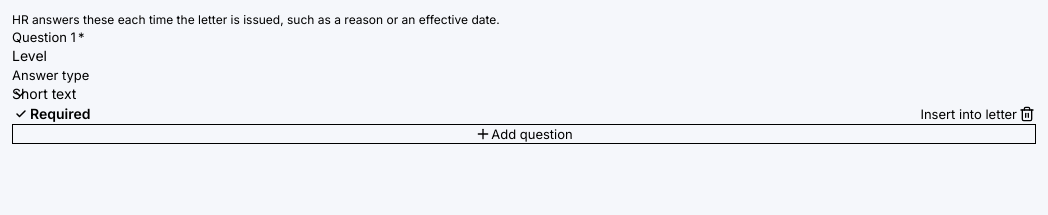
Test: asks for choices when the answer is a dropdown
Expected: the field labelled "Choices" is not shown
Select "Dropdown with choices" in the dropdown labelled "Answer type" at (524, 94), box [12,84,1036,104]
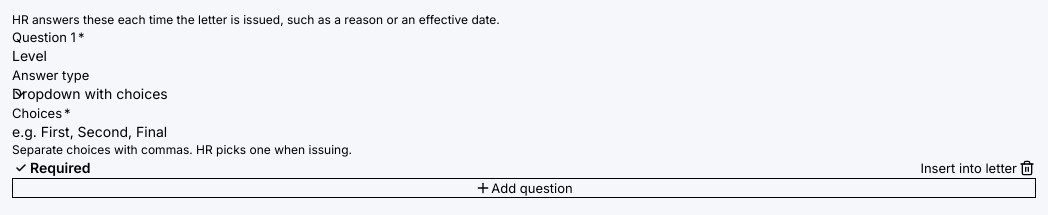
Type "First, Final" into the field labelled "Choices *" at (524, 132), box [12,122,1036,142]
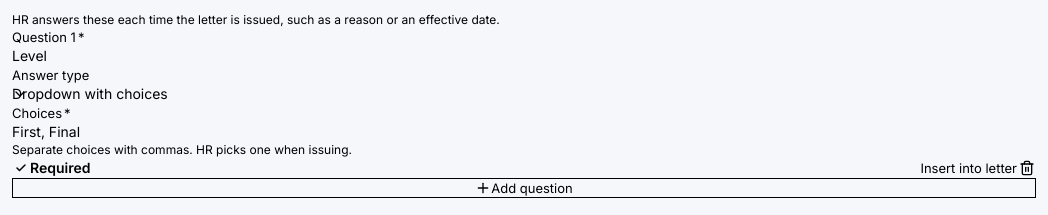
Select "Paragraph" in the dropdown labelled "Answer type" at (524, 94), box [12,84,1036,104]
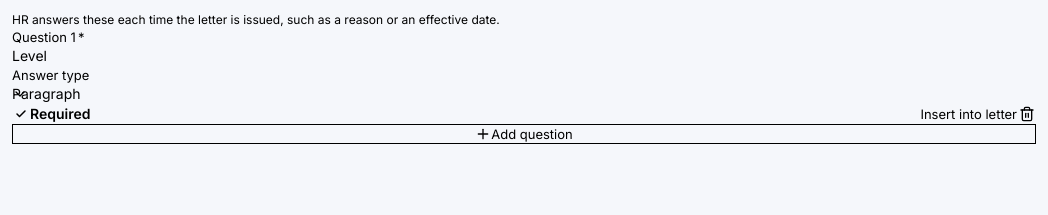
Result: the label labelled "Choices" is gone
